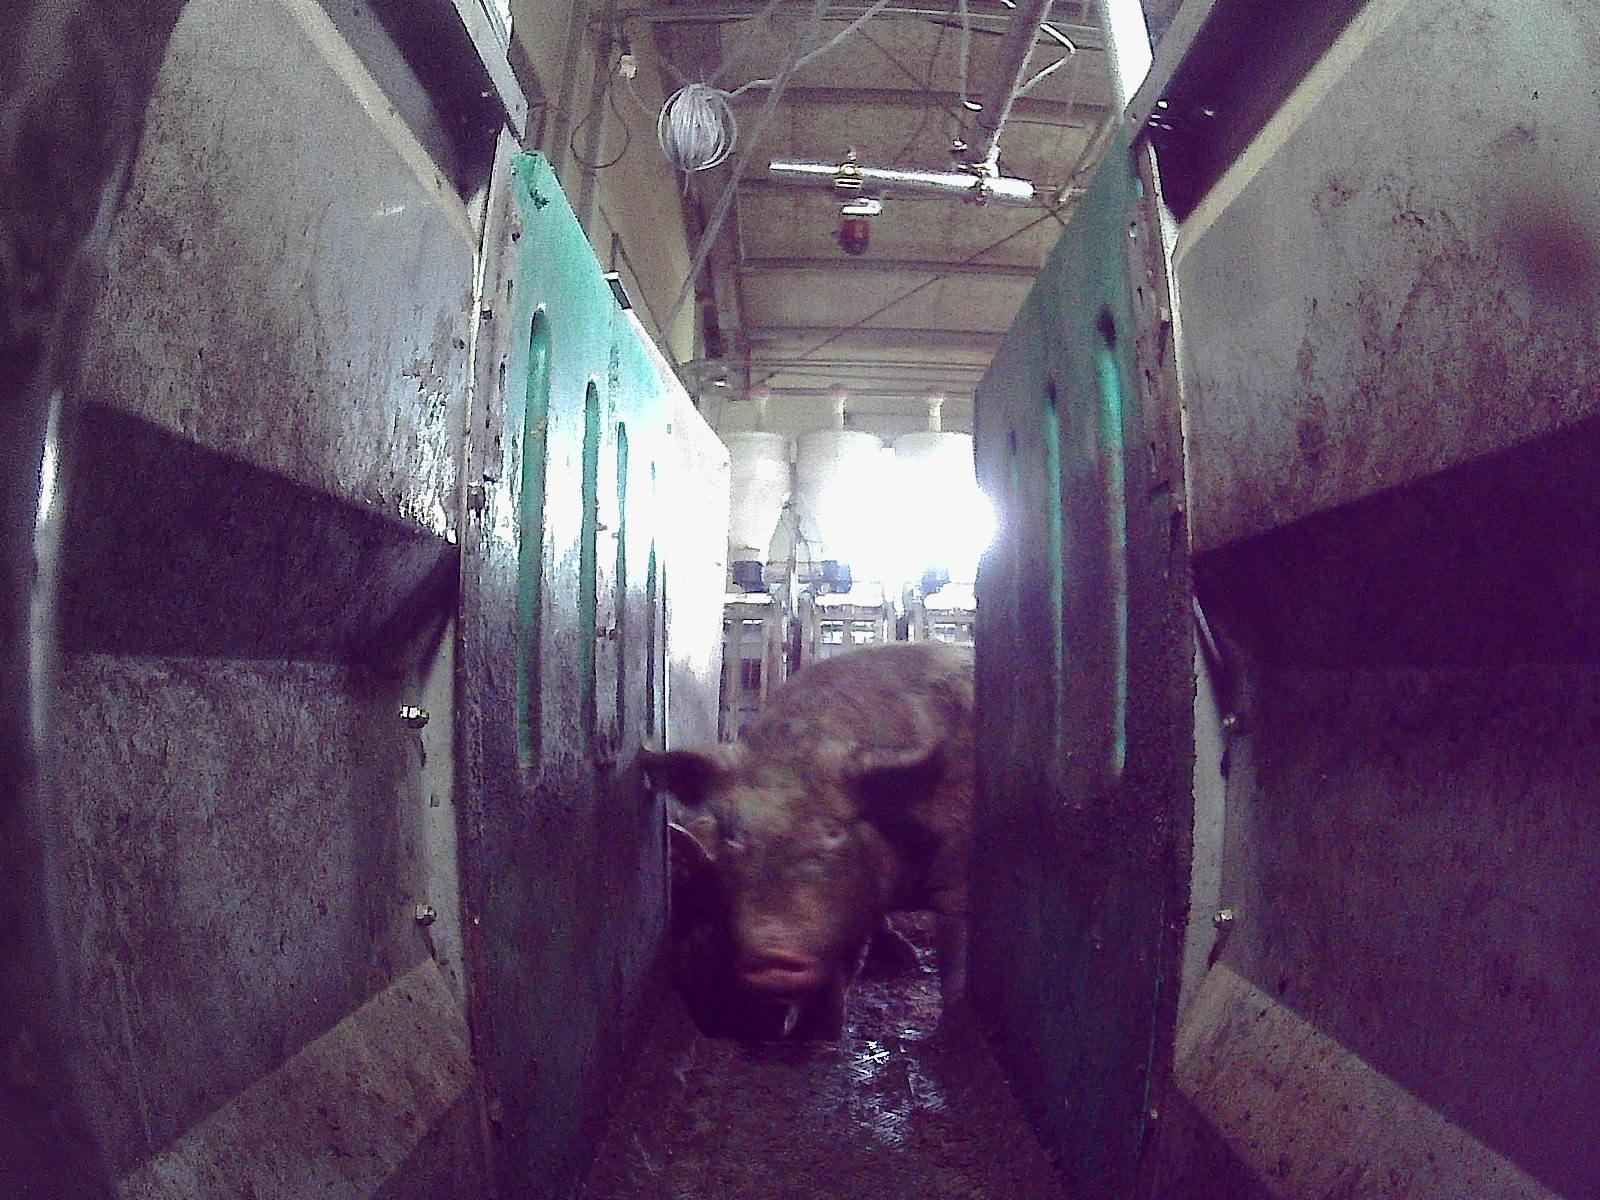Face: (706, 754, 888, 990)
